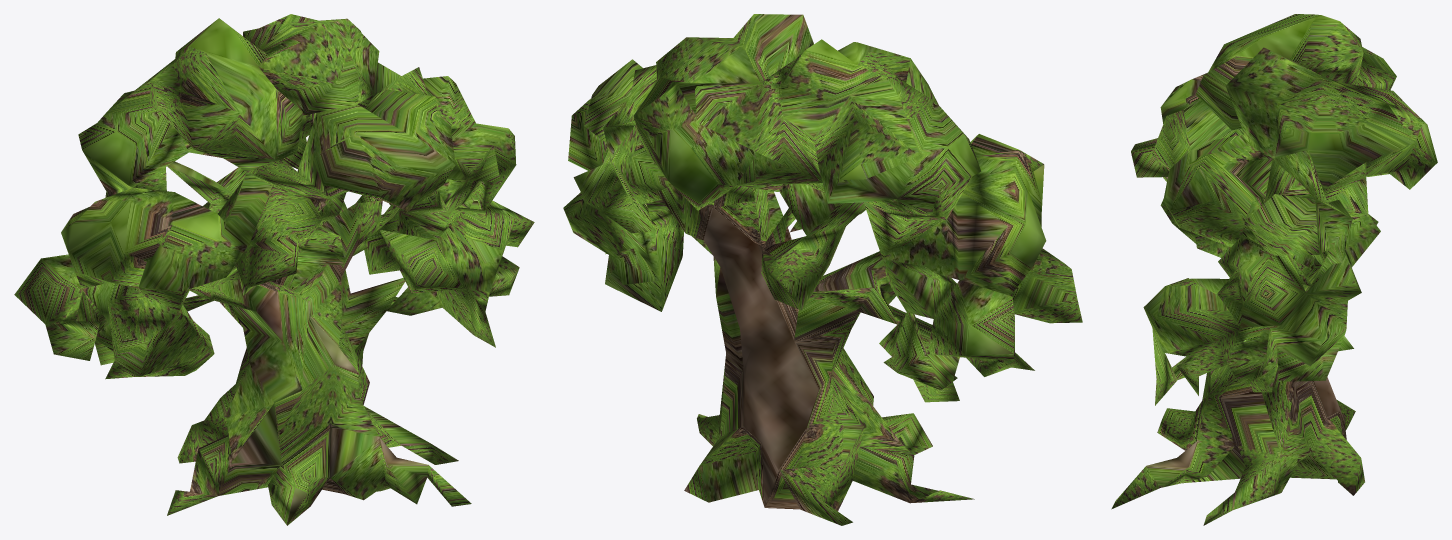
Rendered from oak_far.glb.
3 views of the same model, side by side, from view 1: azimuth 30°, elevation 25°; view 2: azimuth 150°, elevation 25°; view 3: azimuth 270°, elevation 25° (orthographic). The views are drawn at different scales.
Size of the model in its own units: 0.9512 by 0.8624 by 0.6022.
Materials: 1 (1 with a texture image).
